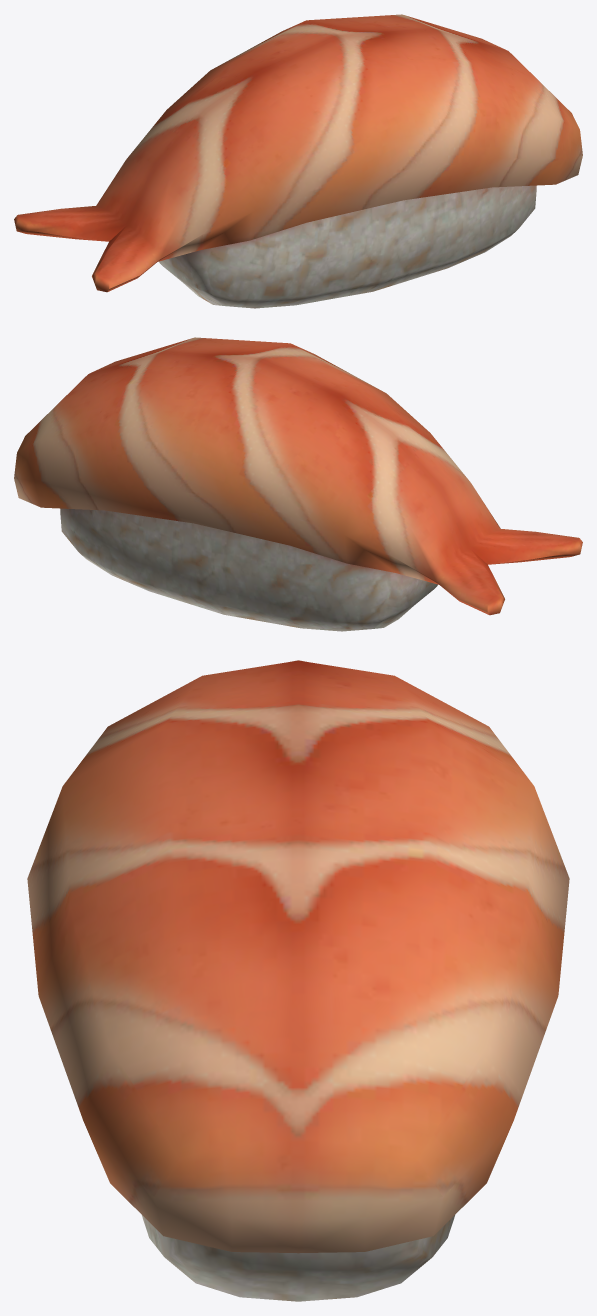
Rendered from 0-shrimp.fbx.
3 renders of one model, top to bottom at view 1: azimuth 30°, elevation 25°; view 2: azimuth 150°, elevation 25°; view 3: azimuth 270°, elevation 25°, orthographic. The views are drawn at different scales.
Parts seen in each view (by area): view 1: 0-shrimp; view 2: 0-shrimp; view 3: 0-shrimp.
Part boxes in pixels (x1,y1,x2,y2): 0-shrimp: [14, 14, 582, 308]; 0-shrimp: [14, 337, 582, 631]; 0-shrimp: [27, 660, 569, 1301].
Bounding box in the file's own units: 98.77 × 44.98 × 45.57.
